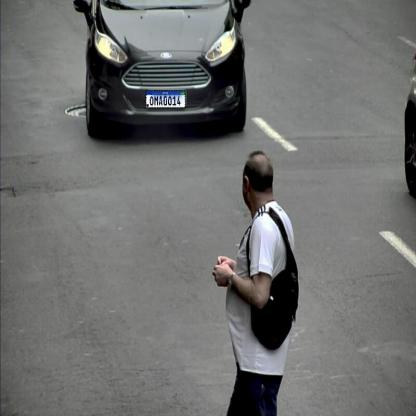PlacaM: (146, 90, 186, 108)
